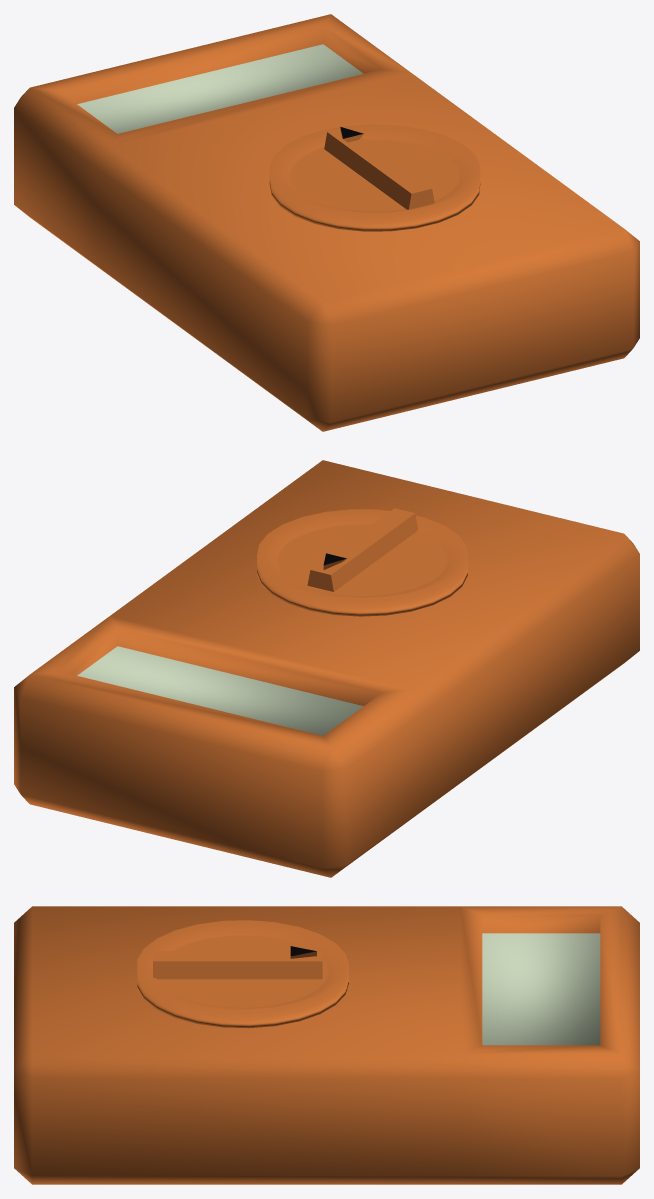
File: multimetro.fbx
3 views of the same model, one above another, from view 1: azimuth 30°, elevation 25°; view 2: azimuth 150°, elevation 25°; view 3: azimuth 270°, elevation 25° (orthographic).
Parts seen in each view (by area): view 1: Cube, Cylinder; view 2: Cube, Cylinder; view 3: Cube, Cylinder.
Part boxes in pixels (bbox=[...]): Cube: bbox=[14, 14, 639, 431]; Cylinder: bbox=[269, 124, 480, 231]; Cube: bbox=[14, 460, 639, 877]; Cylinder: bbox=[257, 508, 467, 616]; Cube: bbox=[14, 906, 639, 1184]; Cylinder: bbox=[137, 920, 348, 1028].
Bounding box in the file's own units: 2 × 0.9339 × 3.24.
